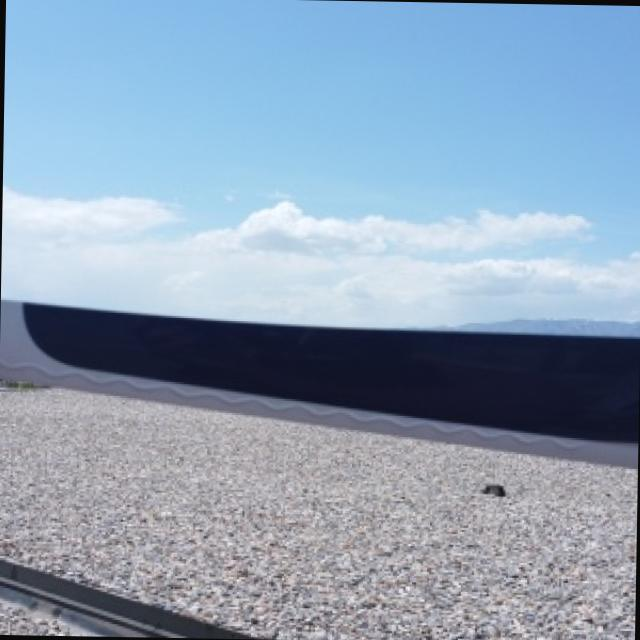healthy: (0, 299, 636, 466)
